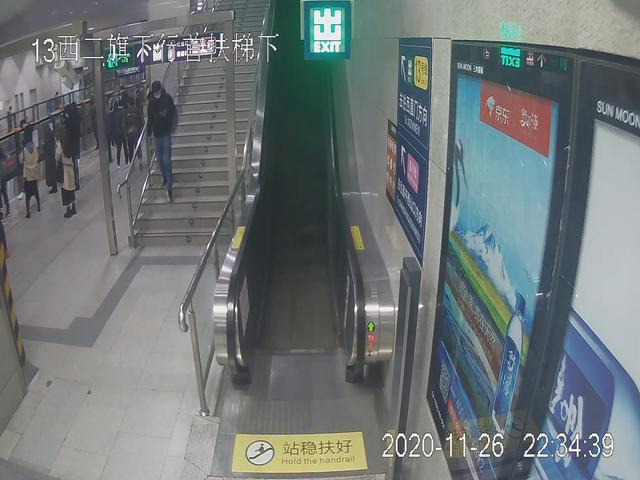person: (144, 81, 179, 200), (18, 132, 43, 218), (56, 127, 76, 219)
